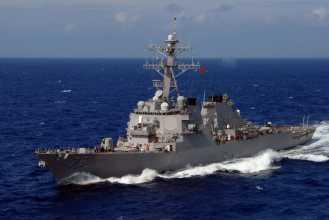warship: (38, 24, 324, 181)
